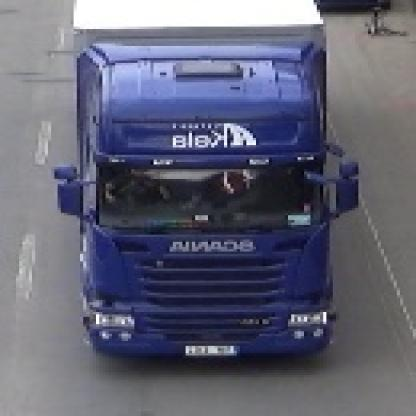truck: (53, 1, 360, 357)
